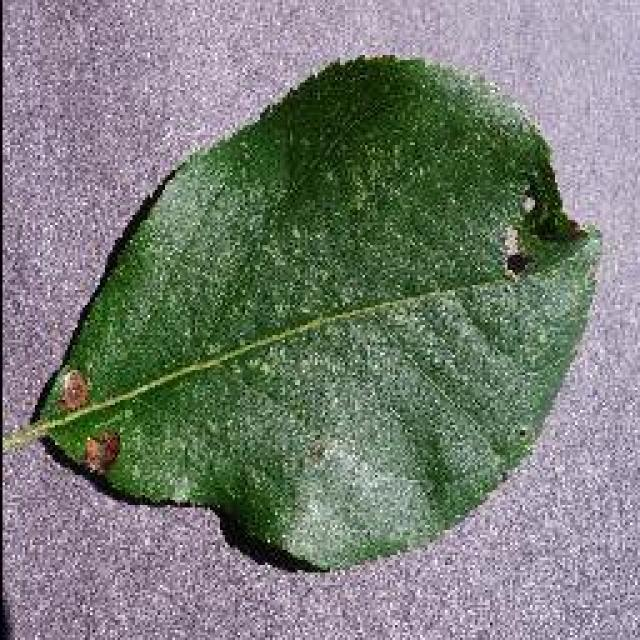apple black rot: (25, 50, 603, 572)
